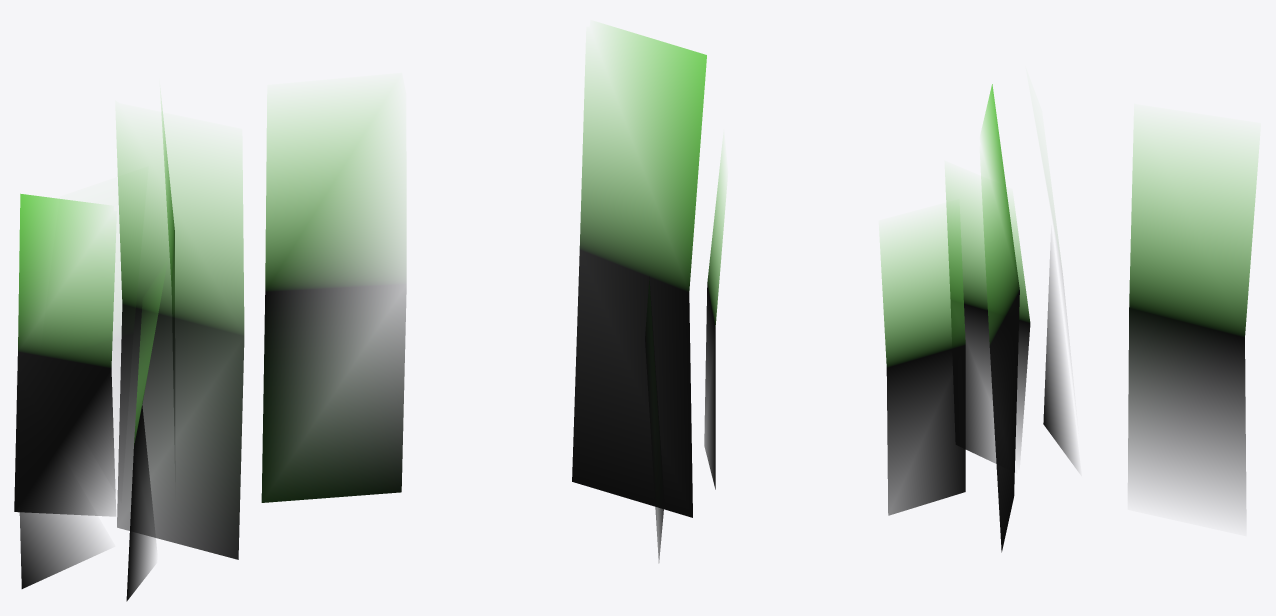
File: Foliage_Grass_Weeds_Grass0.glb
3 views of the same model, side by side, from view 1: azimuth 30°, elevation 25°; view 2: azimuth 150°, elevation 25°; view 3: azimuth 270°, elevation 25° (orthographic). The views are drawn at different scales.
Parts seen in each view (by area): view 1: Grass0; view 2: Grass0; view 3: Grass0.
Boxes of the visible parts, x1,y1,x2,y2 form: Grass0: (14, 100, 406, 601); Grass0: (572, 25, 725, 562); Grass0: (880, 84, 1258, 552).
Size of the model in its own units: 0.1488 by 0.1606 by 0.1351.
